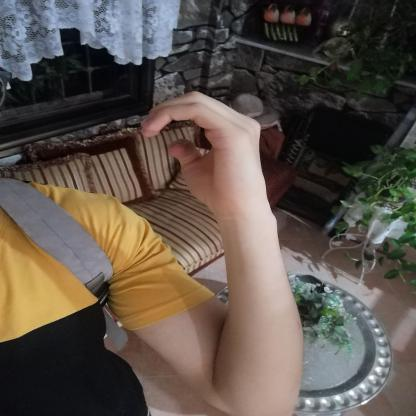JEEM: (130, 84, 292, 221)
